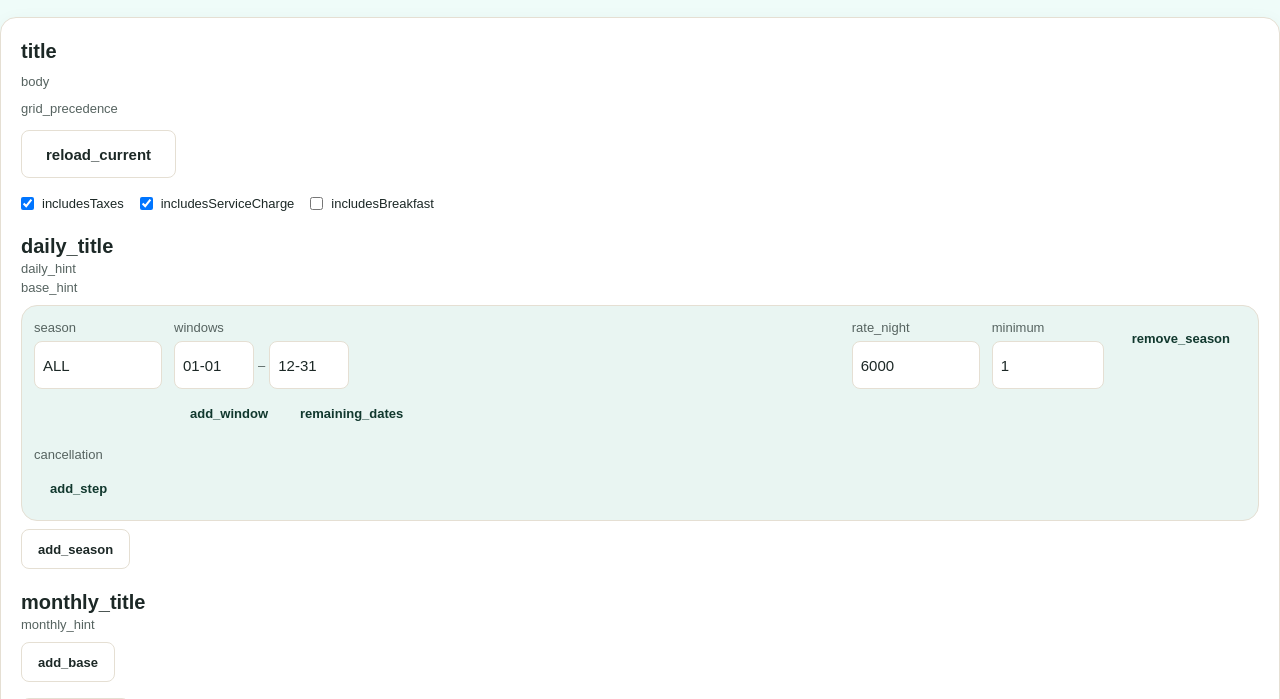
tariff editor failure recovery › preserves edited amounts and allows retry after network failure
Replace the text in the number field labelled "rate_night" with "7200" at (916, 365), box 852,341 -> 980,389
(page scrolled)
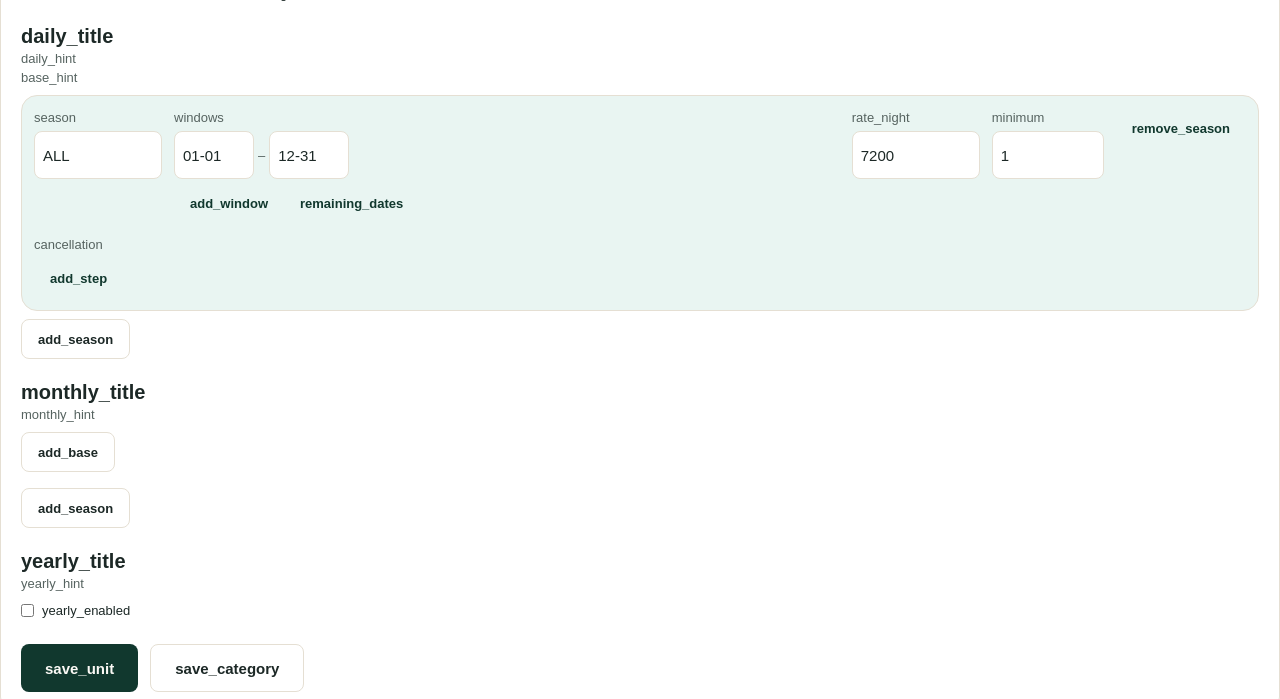
Click the button "save_unit" at (80, 668), box 21,644 -> 138,692
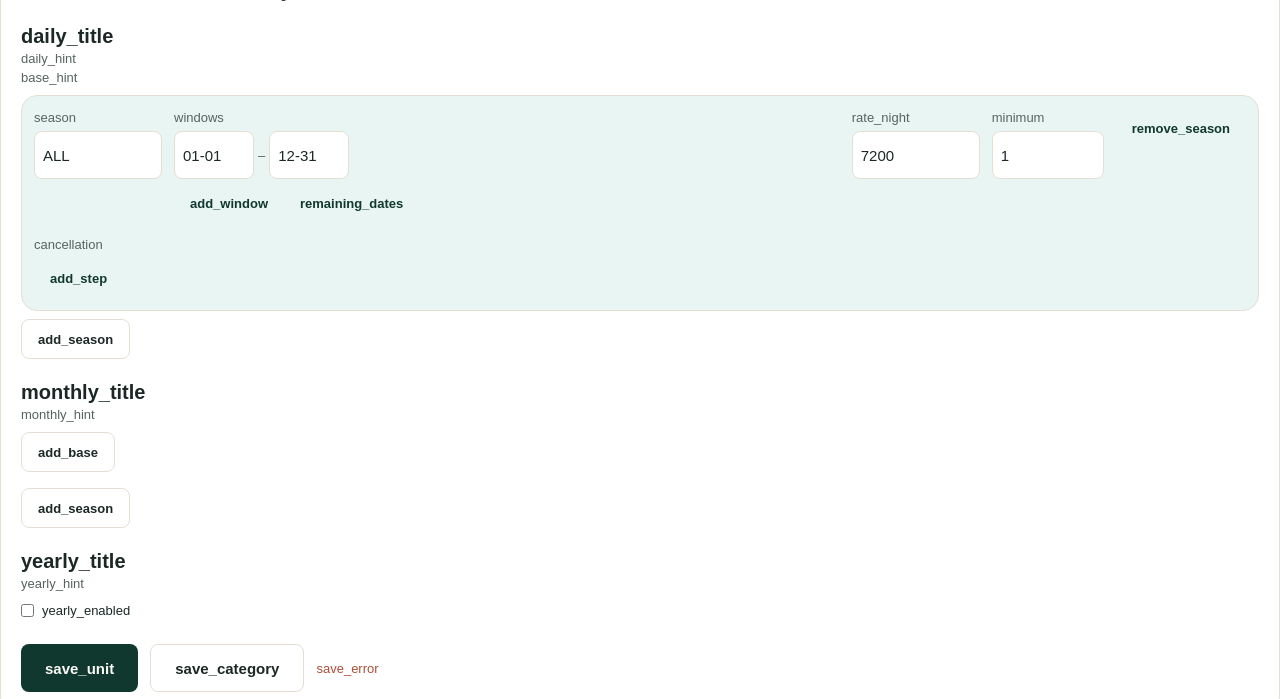
Expected: the message reads "save_error", 316,660 -> 379,676
Click the button "save_unit" at (80, 668), box 21,644 -> 138,692
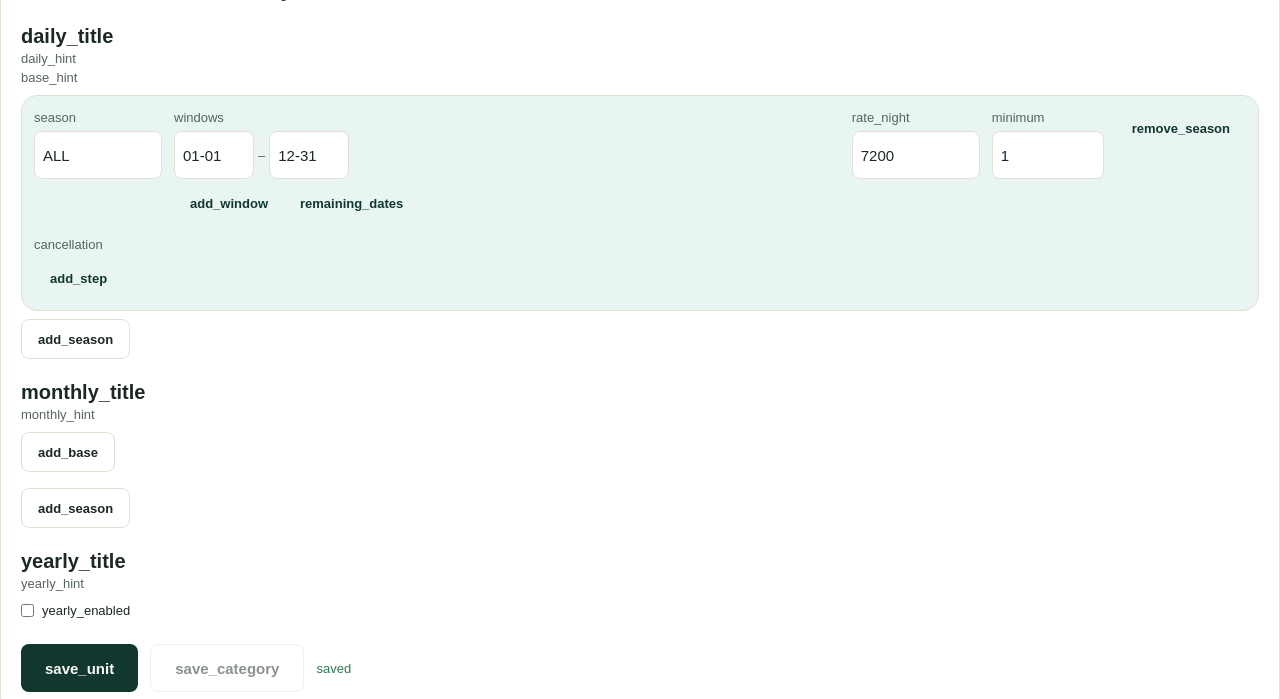
Expected: the message reads "saved", 316,660 -> 351,676
